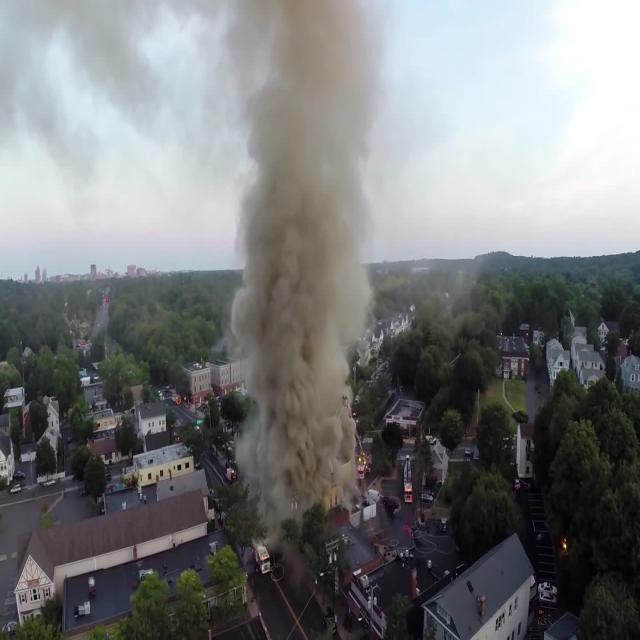Smoke: (242, 125, 349, 499)
